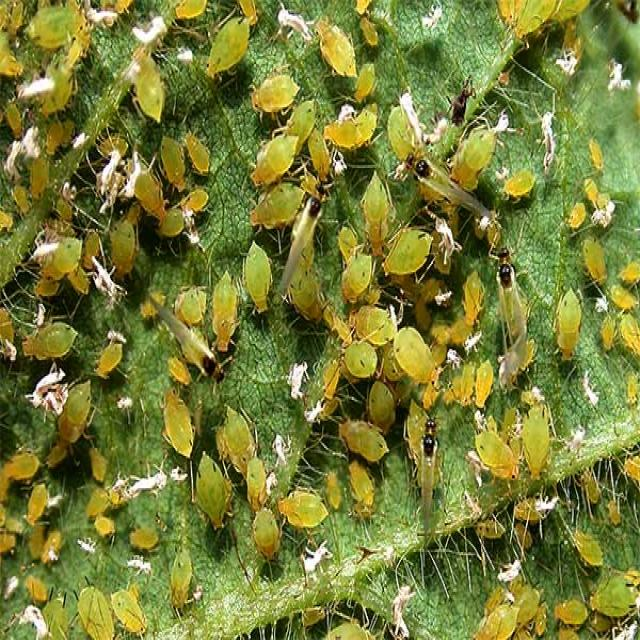Aphid: (119, 40, 168, 119), (215, 398, 257, 478), (313, 13, 359, 84), (192, 449, 231, 532), (247, 67, 306, 121), (55, 375, 95, 444), (242, 241, 276, 321), (208, 17, 251, 77), (75, 581, 118, 640), (212, 266, 238, 353), (278, 486, 328, 531), (110, 215, 140, 283), (251, 505, 284, 564), (172, 546, 200, 611), (109, 588, 146, 636), (158, 130, 186, 192), (182, 128, 213, 180), (171, 278, 208, 321), (96, 335, 127, 377), (353, 58, 381, 102), (93, 127, 128, 160), (177, 185, 210, 219), (177, 182, 208, 218), (128, 523, 162, 553), (359, 15, 380, 54), (87, 438, 104, 482), (95, 515, 114, 536)
